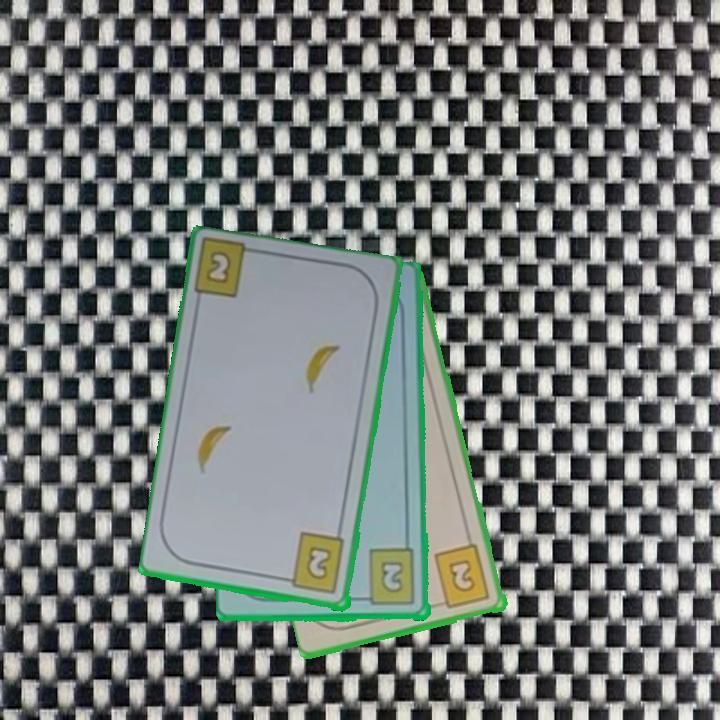2b: (279, 530, 348, 597), (431, 541, 494, 612), (357, 546, 418, 609), (202, 247, 235, 287)
